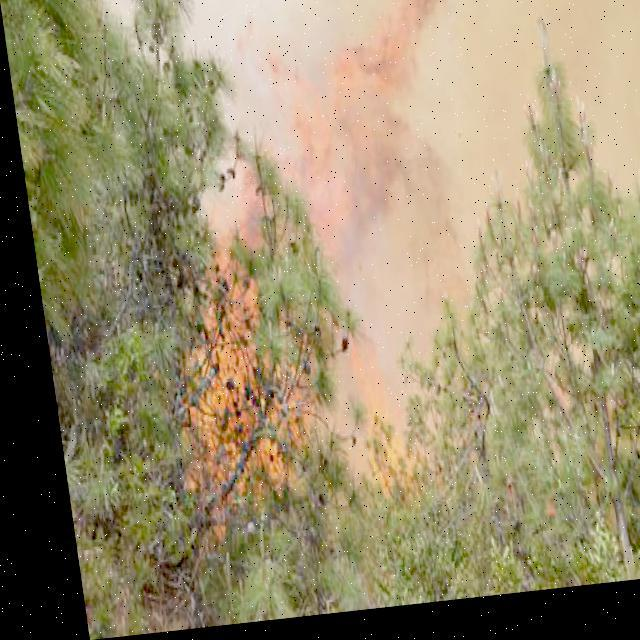Fire: (125, 0, 528, 549)
